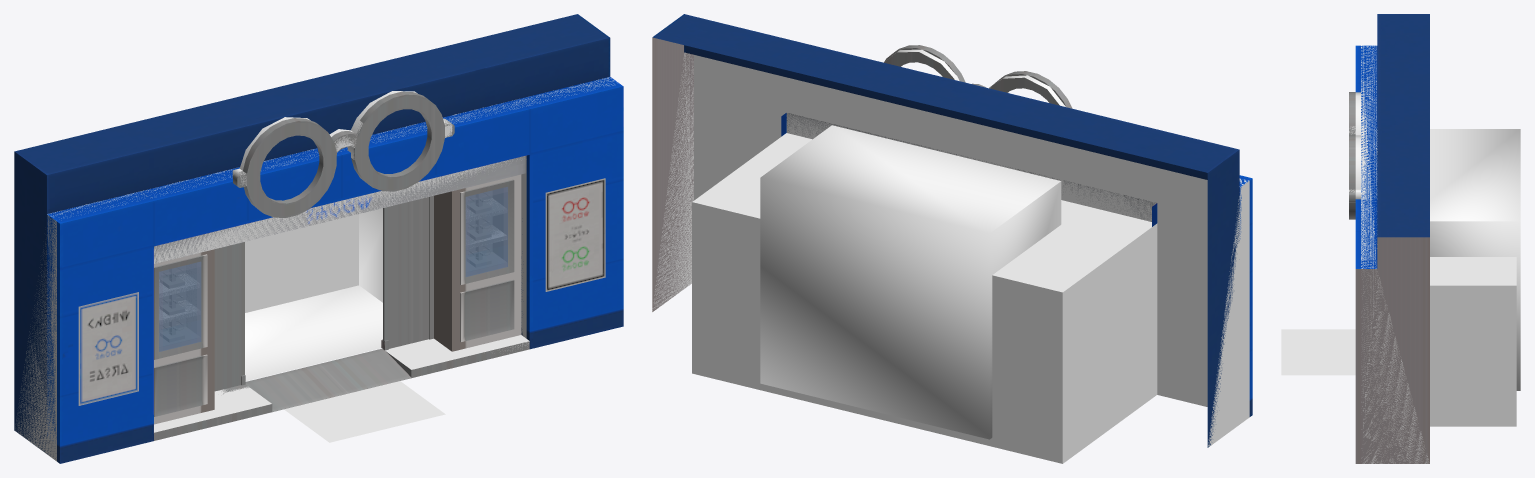
File: objects_un_dressupglasses01.gltf
3 renders of one model, left to right at view 1: azimuth 30°, elevation 25°; view 2: azimuth 150°, elevation 25°; view 3: azimuth 270°, elevation 25°, orthographic. The views are drawn at different scales.
Visible parts, largest first — view 1: nomerge_wall01_shape:objects_un_dressupglasses01_obj01, um_objects_un_dressupglasses01_model_lod0Shape:objects_un_dr (×3), nomerge_objects_un_dressupglasses01_mesh02_shape:objects_un_ (×2), um_objects_un_dressupglasses01_model_lod1Shape:objects_un_dr (×2), um_objects_un_dressupglasses01_model_lod1Shape:objects_un_sh; view 2: um_objects_un_dressupglasses01_model_lod0Shape:objects_un_dr, nomerge_objects_un_dressupglasses01_mesh02_shape:objects_un_ (×2), nomerge_wall01_shape:objects_un_dressupglasses01_obj01; view 3: nomerge_wall01_shape:objects_un_dressupglasses01_obj01, um_objects_un_dressupglasses01_model_lod0Shape:objects_un_dr, nomerge_objects_un_dressupglasses01_mesh02_shape:objects_un_ (×2), um_objects_un_dressupglasses01_model_lod0Shape:objects_un_sh.
Boxes of the visible parts, box(x1,y1,x2,y2) form: nomerge_wall01_shape:objects_un_dressupglasses01_obj01: box(14, 14, 623, 463); um_objects_un_dressupglasses01_model_lod0Shape:objects_un_dr (×3): box(15, 77, 614, 461); nomerge_objects_un_dressupglasses01_mesh02_shape:objects_un_ (×2): box(233, 91, 454, 381); um_objects_un_dressupglasses01_model_lod1Shape:objects_un_dr (×2): box(159, 187, 507, 390); um_objects_un_dressupglasses01_model_lod1Shape:objects_un_sh: box(284, 381, 445, 442); um_objects_un_dressupglasses01_model_lod0Shape:objects_un_dr: box(652, 49, 1249, 463); nomerge_objects_un_dressupglasses01_mesh02_shape:objects_un_ (×2): box(760, 45, 1072, 439); nomerge_wall01_shape:objects_un_dressupglasses01_obj01: box(652, 14, 1252, 447); nomerge_wall01_shape:objects_un_dressupglasses01_obj01: box(1355, 14, 1429, 463); um_objects_un_dressupglasses01_model_lod0Shape:objects_un_dr: box(1349, 45, 1516, 463); nomerge_objects_un_dressupglasses01_mesh02_shape:objects_un_ (×2): box(1349, 92, 1520, 390); um_objects_un_dressupglasses01_model_lod0Shape:objects_un_sh: box(1281, 329, 1355, 375).
Size of what is drawn, in the model's own units: 7.12 by 3.49 by 3.22.
Materials: 6 (3 with a texture image).
